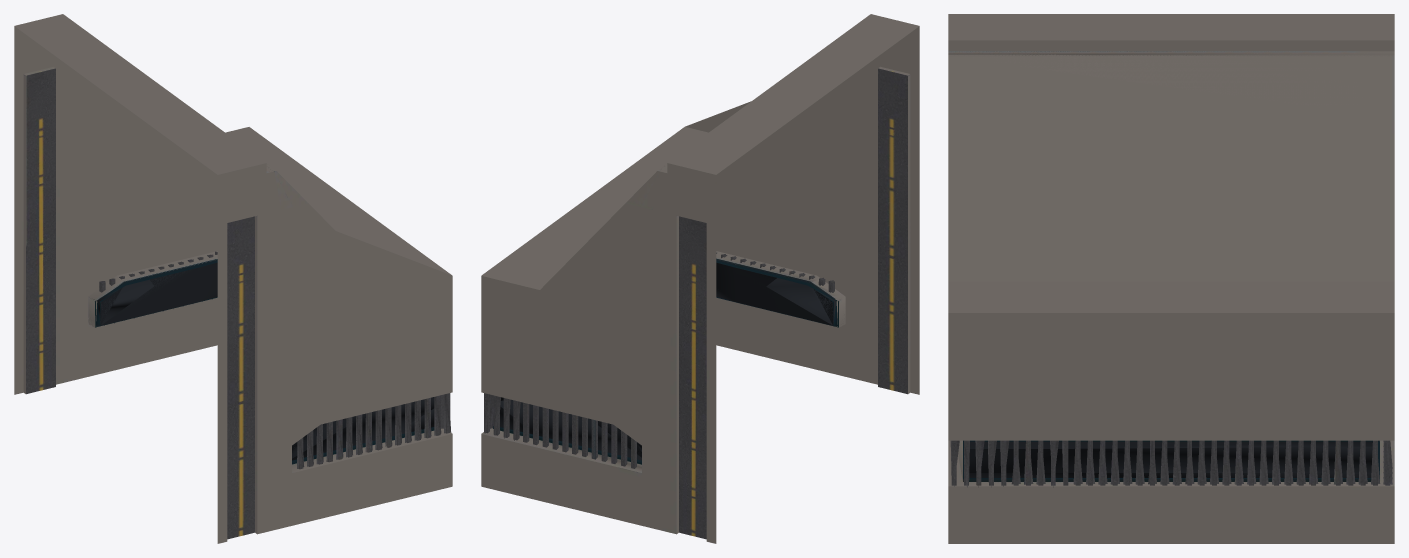
File: sm_cb01_module16.glb
3 views of the same model, side by side, from view 1: azimuth 30°, elevation 25°; view 2: azimuth 150°, elevation 25°; view 3: azimuth 270°, elevation 25° (orthographic). The views are drawn at different scales.
Parts seen in each view (by area): view 1: sm_cb01_module16_00; view 2: sm_cb01_module16_00; view 3: sm_cb01_module16_00.
Boxes of the visible parts, <box> form: sm_cb01_module16_00: <box>14,14,452,543</box>; sm_cb01_module16_00: <box>481,14,919,543</box>; sm_cb01_module16_00: <box>948,14,1394,543</box>.
Size of the model in its own units: 6.02 by 9 by 9.
Materials: 2 (1 with a texture image).
